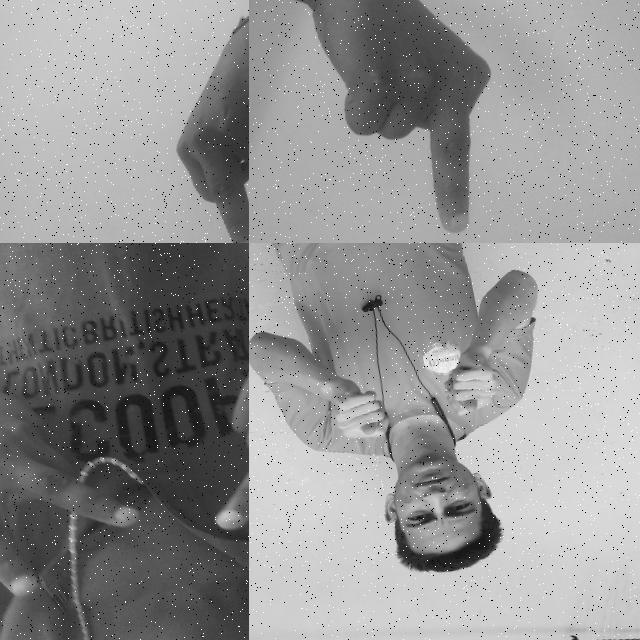Dulya: (314, 358, 398, 454), (429, 331, 510, 427)
Middle Finger: (288, 0, 526, 243), (146, 0, 249, 243)
Reversed Victory: (0, 317, 156, 617), (169, 272, 249, 573)
